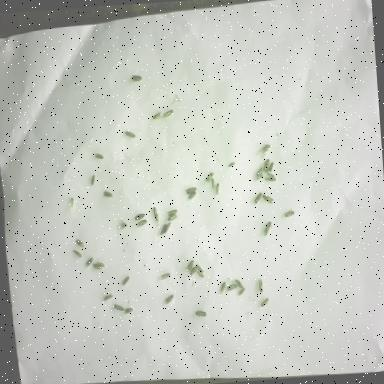pbw: (260, 188, 275, 205), (258, 141, 272, 158), (151, 205, 162, 226), (262, 219, 274, 238), (182, 258, 196, 274), (252, 190, 264, 207), (263, 170, 277, 184), (260, 158, 272, 174), (121, 127, 136, 139), (217, 280, 228, 296), (160, 108, 174, 120), (254, 166, 264, 182), (164, 220, 174, 236), (122, 304, 135, 316), (84, 255, 96, 268), (136, 218, 148, 231), (194, 306, 207, 318), (259, 295, 271, 308), (103, 290, 116, 302), (113, 300, 124, 314), (265, 160, 276, 174), (183, 185, 198, 195), (128, 74, 143, 84), (163, 212, 178, 222), (74, 236, 86, 248), (193, 260, 204, 273), (188, 264, 198, 278), (158, 223, 168, 237), (204, 170, 214, 184), (120, 275, 131, 287), (282, 208, 295, 218), (225, 282, 238, 292), (164, 293, 174, 306), (151, 110, 162, 121), (94, 150, 104, 162), (214, 180, 222, 195), (118, 218, 128, 230), (186, 190, 198, 200), (166, 207, 178, 217), (132, 212, 147, 220), (72, 246, 82, 258), (257, 276, 264, 293), (91, 261, 102, 271), (94, 258, 105, 268), (232, 278, 243, 288), (196, 266, 205, 278), (236, 286, 246, 296), (102, 189, 113, 198), (160, 272, 172, 280), (210, 176, 216, 191), (69, 196, 75, 210), (90, 174, 97, 185), (227, 160, 236, 168)
